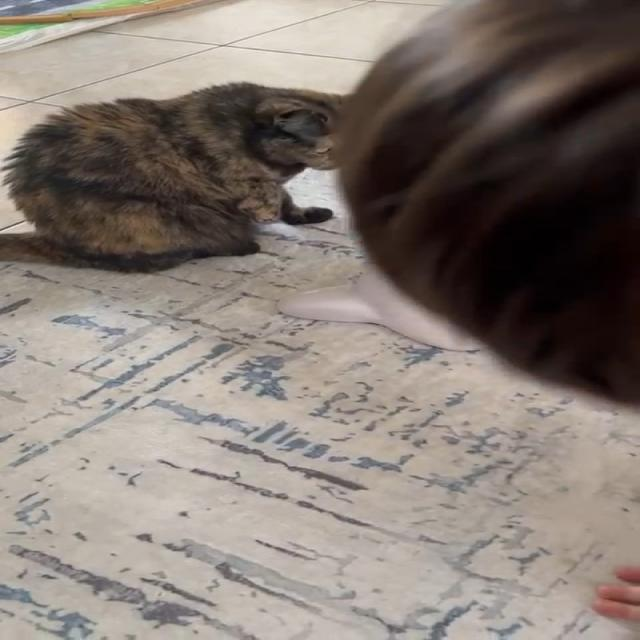authorized: (0, 80, 348, 274)
